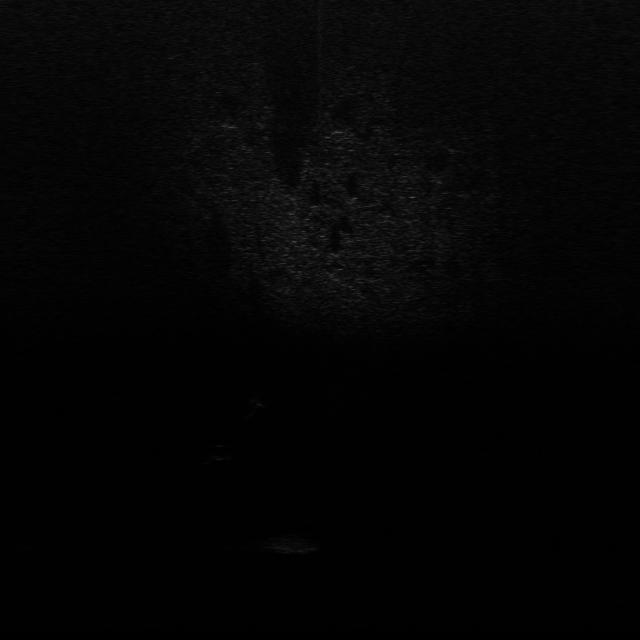ball: (207, 443, 236, 462)
circle cage: (260, 529, 326, 555)
human body: (246, 385, 272, 420)
